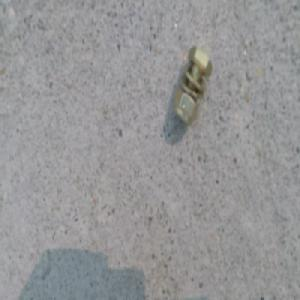BoltNutSet: (175, 38, 215, 117)
